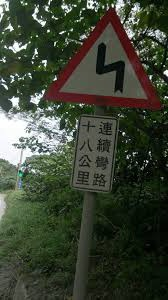Double_bend_left: (42, 6, 164, 110)
